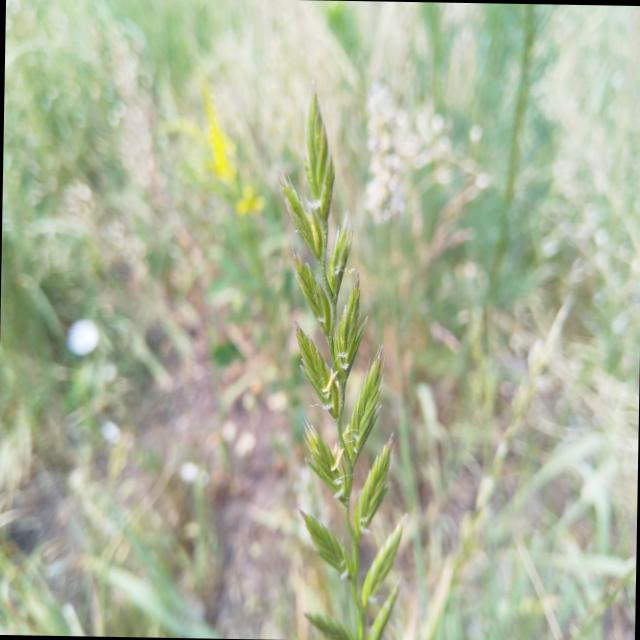Lolium: (267, 77, 417, 639)
